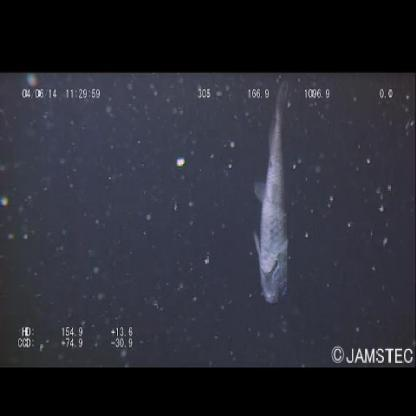Bio: (250, 75, 302, 319)
